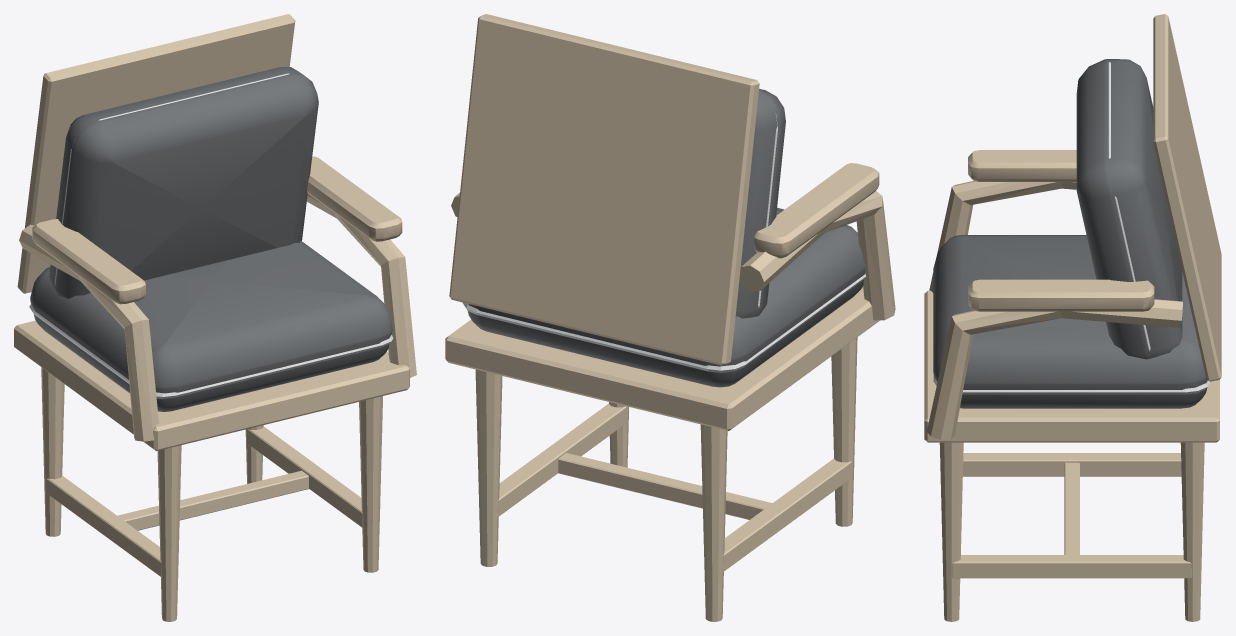
The model's file is clinic-and-veterinary-practice-waiting-armchair-dark-5e9e3eec__16733.glb.
3 renders of one model, left to right at view 1: azimuth 30°, elevation 25°; view 2: azimuth 150°, elevation 25°; view 3: azimuth 270°, elevation 25°, orthographic. The views are drawn at different scales.
Parts seen in each view (by area): view 1: waiting-armchair-dark; view 2: waiting-armchair-dark; view 3: waiting-armchair-dark.
Part boxes in pixels (x1,y1,x2,y2): waiting-armchair-dark: (14,14,416,621); waiting-armchair-dark: (445,14,895,621); waiting-armchair-dark: (924,14,1221,621).
Bounding box in the file's own units: 0.63 × 0.9918 × 0.5427.
